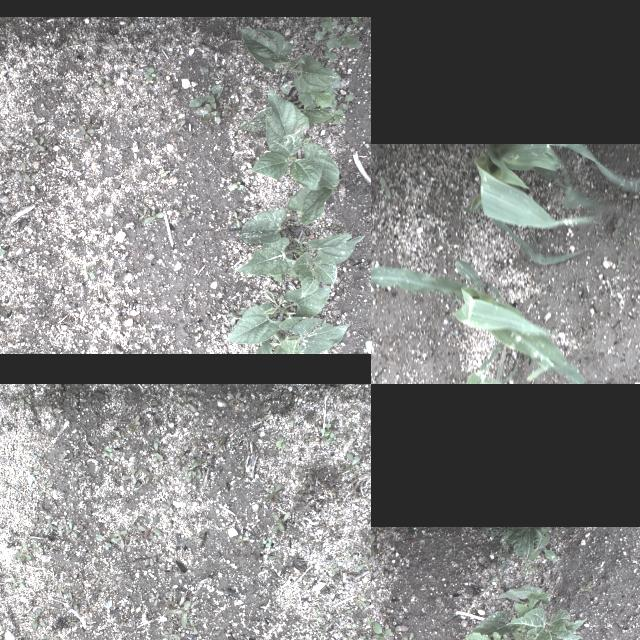crop: (371, 260, 586, 384), (460, 144, 640, 263), (248, 88, 338, 190), (232, 230, 364, 298), (450, 582, 592, 640), (240, 29, 340, 93), (225, 286, 329, 344), (240, 187, 332, 243), (236, 92, 334, 132), (256, 318, 350, 354), (498, 527, 560, 573)
weed: (324, 32, 360, 62), (187, 84, 223, 108), (310, 81, 338, 107), (179, 458, 207, 482), (484, 557, 508, 585), (13, 542, 43, 564), (136, 515, 160, 541), (315, 18, 343, 40), (371, 619, 400, 640), (326, 94, 344, 124), (270, 509, 290, 533), (162, 594, 186, 614), (108, 528, 128, 550), (28, 608, 48, 630), (575, 577, 597, 597), (196, 104, 220, 122), (341, 454, 361, 474), (178, 600, 190, 628), (6, 573, 24, 591), (177, 394, 196, 411), (75, 124, 95, 140), (92, 78, 112, 94), (265, 482, 281, 502), (120, 468, 140, 484), (346, 16, 364, 32), (94, 532, 110, 550), (18, 162, 32, 182), (150, 442, 163, 462), (354, 555, 371, 570), (142, 65, 156, 83), (228, 210, 242, 228), (226, 392, 244, 406), (140, 466, 158, 480), (380, 175, 390, 199), (65, 520, 77, 540), (338, 95, 352, 112), (397, 629, 418, 640), (56, 518, 72, 532), (144, 211, 162, 223), (352, 594, 370, 606), (68, 592, 80, 610), (336, 426, 352, 439), (233, 534, 250, 546), (63, 384, 80, 396), (280, 83, 300, 93), (612, 218, 622, 238), (128, 414, 138, 434), (32, 138, 44, 154), (54, 582, 66, 598), (162, 629, 179, 640), (212, 436, 225, 450), (188, 618, 198, 636), (231, 180, 245, 192), (174, 118, 186, 132), (45, 136, 57, 150), (324, 432, 336, 446), (294, 467, 306, 481), (160, 498, 172, 512), (230, 305, 246, 315), (267, 552, 283, 562), (275, 436, 285, 452), (111, 431, 123, 444), (351, 395, 362, 409), (38, 482, 52, 493), (42, 631, 59, 640), (296, 486, 314, 494), (17, 398, 29, 410), (142, 332, 152, 346), (227, 314, 241, 324), (328, 417, 338, 431), (145, 552, 155, 566), (43, 519, 53, 533), (2, 481, 16, 491), (177, 444, 187, 458), (362, 425, 371, 440), (190, 532, 203, 542), (83, 268, 95, 278), (328, 564, 340, 574), (331, 389, 341, 401), (320, 424, 330, 436), (256, 487, 268, 497), (186, 493, 196, 505), (102, 446, 114, 456), (78, 472, 90, 482), (179, 208, 193, 216), (152, 592, 160, 606), (100, 582, 114, 590), (26, 466, 40, 474), (2, 247, 12, 257), (304, 412, 314, 422), (289, 418, 299, 428), (263, 537, 273, 547), (130, 515, 140, 525), (175, 456, 185, 466), (21, 631, 32, 640), (616, 254, 622, 270), (303, 572, 315, 580), (345, 550, 353, 562), (71, 537, 83, 545), (18, 393, 30, 401), (436, 596, 444, 608), (150, 401, 158, 412), (304, 432, 310, 446), (159, 169, 169, 177), (28, 134, 38, 142), (138, 209, 146, 219), (315, 611, 323, 621), (236, 464, 244, 474), (362, 492, 370, 502), (256, 417, 266, 425), (180, 514, 190, 522), (75, 608, 83, 618), (152, 478, 160, 488), (66, 619, 76, 627), (40, 604, 50, 612), (66, 395, 76, 403), (85, 604, 94, 612), (351, 635, 365, 640), (118, 618, 125, 628), (200, 440, 207, 450), (328, 586, 336, 594), (192, 438, 200, 446), (250, 292, 260, 298), (366, 533, 371, 545), (192, 512, 198, 522), (59, 458, 69, 464), (209, 434, 217, 441), (165, 619, 178, 623), (366, 614, 370, 626), (345, 624, 357, 628), (338, 610, 350, 614), (301, 583, 309, 589), (365, 545, 371, 553), (342, 438, 354, 442), (194, 608, 200, 616), (75, 568, 81, 576), (78, 520, 84, 528), (111, 460, 119, 466), (72, 343, 76, 351), (86, 550, 90, 558), (246, 451, 250, 455), (74, 562, 80, 564)
